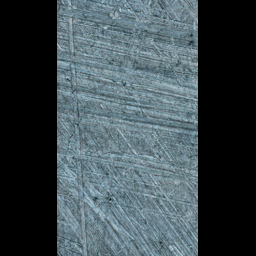d: (87, 0, 161, 255), (57, 126, 198, 185), (61, 0, 91, 255)
